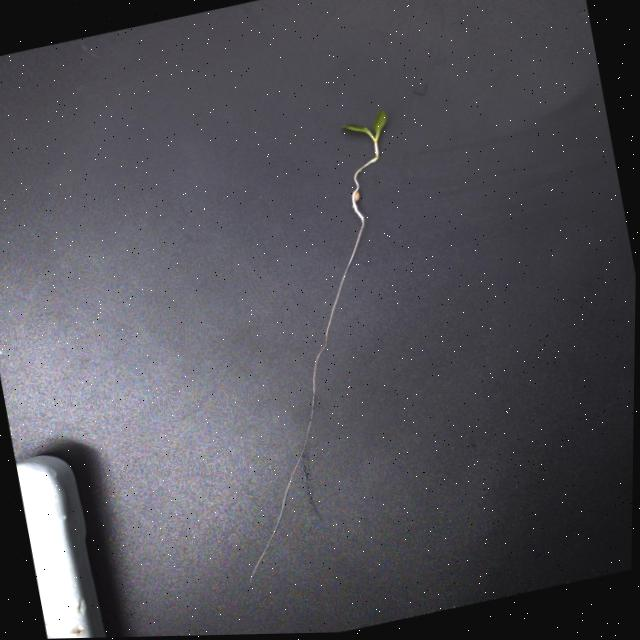leaf: (373, 110, 386, 134), (343, 123, 370, 133)
root: (249, 158, 376, 582)
stem: (366, 131, 379, 158)
